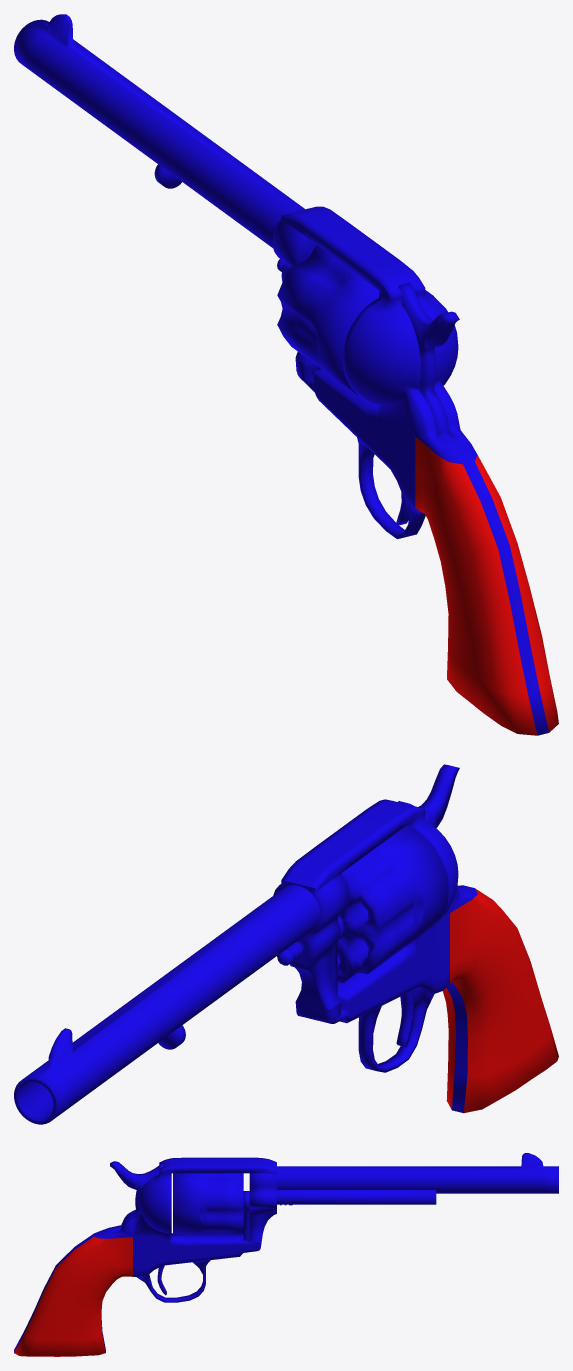
Rendered from 1873_Cattleman.fbx.
3 renders of one model, top to bottom at view 1: azimuth 30°, elevation 25°; view 2: azimuth 150°, elevation 25°; view 3: azimuth 270°, elevation 25°, orthographic. The views are drawn at different scales.
Parts seen in each view (by area): view 1: Cattleman; view 2: Cattleman; view 3: Cattleman.
Part boxes in pixels (bbox=[...]): Cattleman: bbox=[14, 14, 558, 735]; Cattleman: bbox=[14, 764, 558, 1124]; Cattleman: bbox=[14, 1153, 558, 1356].
Size of the model in its own units: 6 by 19.88 by 48.98.
